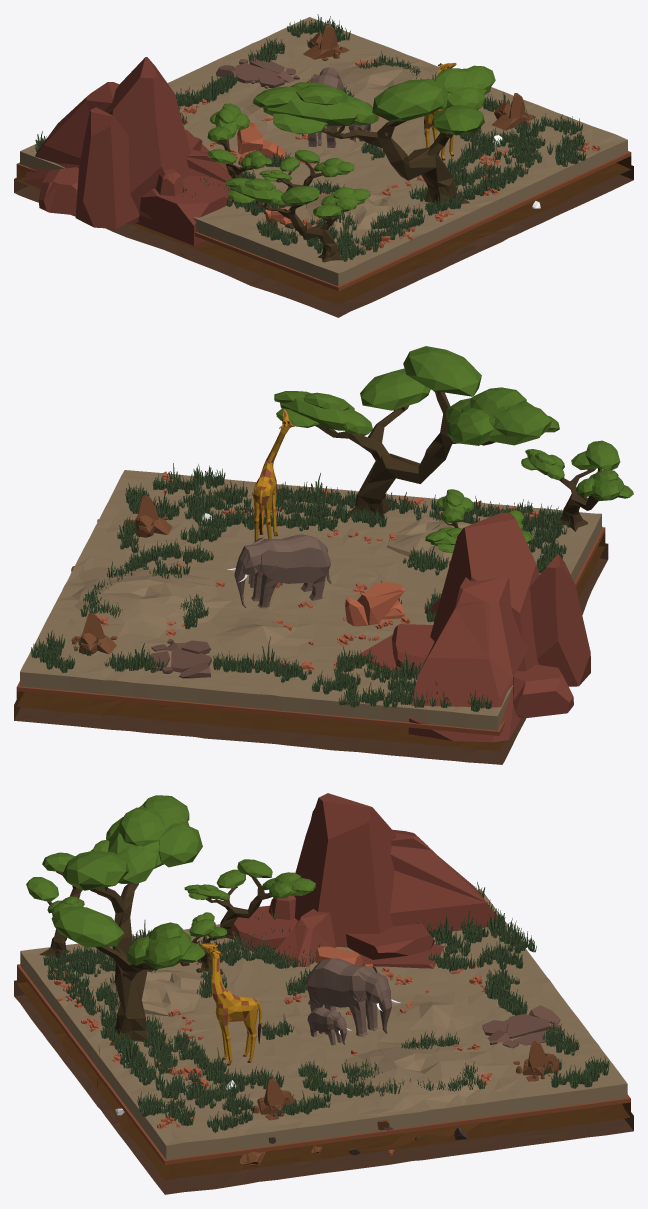
The model's file is Fullscene2.glb.
3 renders of one model, top to bottom at view 1: azimuth 30°, elevation 25°; view 2: azimuth 150°, elevation 25°; view 3: azimuth 270°, elevation 25°, orthographic. The views are drawn at different scales.
Parts seen in each view (by area): view 1: 1st layers, big rocks fromation, Big Tree, 4th layer, 3rd layer, lit tree 3, 2nd layer, lit tree 1, lit tree 2, rocks, rock formation1, rock formation2 (+4 smaller); view 2: 1st layers, big rocks fromation, Big Tree, 4th layer, 3rd layer, elephaant, lit tree 3, 2nd layer, rock formation2, Giraffe, rock formation1, rocks (+4 smaller); view 3: 1st layers, big rocks fromation, Big Tree, 4th layer, 3rd layer, elephaant, 2nd layer, lit tree 1, rocks, Giraffe, lit tree 3, rock formation1 (+5 smaller).
Boxes of the visible parts, left/top/right/bottom form: 1st layers: left=20, top=17, right=627, bottom=286; big rocks fromation: left=23, top=57, right=231, bottom=245; Big Tree: left=253, top=65, right=495, bottom=205; 4th layer: left=14, top=165, right=633, bottom=317; 3rd layer: left=16, top=156, right=631, bottom=304; lit tree 3: left=225, top=177, right=370, bottom=262; 2nd layer: left=16, top=151, right=631, bottom=291; lit tree 1: left=207, top=103, right=272, bottom=202; lit tree 2: left=259, top=150, right=354, bottom=207; rocks: left=305, top=188, right=404, bottom=231; rock formation1: left=216, top=58, right=299, bottom=88; rock formation2: left=237, top=122, right=286, bottom=165; 1st layers: left=20, top=470, right=602, bottom=730; big rocks fromation: left=359, top=512, right=590, bottom=742; Big Tree: left=274, top=346, right=559, bottom=518; 4th layer: left=14, top=543, right=608, bottom=764; 3rd layer: left=16, top=532, right=605, bottom=751; elephaant: left=227, top=534, right=331, bottom=608; lit tree 3: left=521, top=440, right=633, bottom=531; 2nd layer: left=16, top=527, right=605, bottom=735; rock formation2: left=343, top=581, right=404, bottom=626; Giraffe: left=253, top=409, right=294, bottom=541; rock formation1: left=148, top=639, right=211, bottom=678; rocks: left=386, top=516, right=471, bottom=569; 1st layers: left=20, top=889, right=627, bottom=1159; big rocks fromation: left=231, top=793, right=498, bottom=968; Big Tree: left=51, top=795, right=204, bottom=1045; 4th layer: left=14, top=980, right=633, bottom=1194; 3rd layer: left=17, top=969, right=630, bottom=1180; elephaant: left=305, top=958, right=400, bottom=1036; 2nd layer: left=17, top=964, right=630, bottom=1165; lit tree 1: left=184, top=859, right=315, bottom=939; rocks: left=109, top=969, right=207, bottom=1016; Giraffe: left=200, top=942, right=261, bottom=1065; lit tree 3: left=26, top=840, right=109, bottom=961; rock formation1: left=482, top=1005, right=561, bottom=1048.
Size of the model in its own units: 104 by 36.23 by 99.92.
